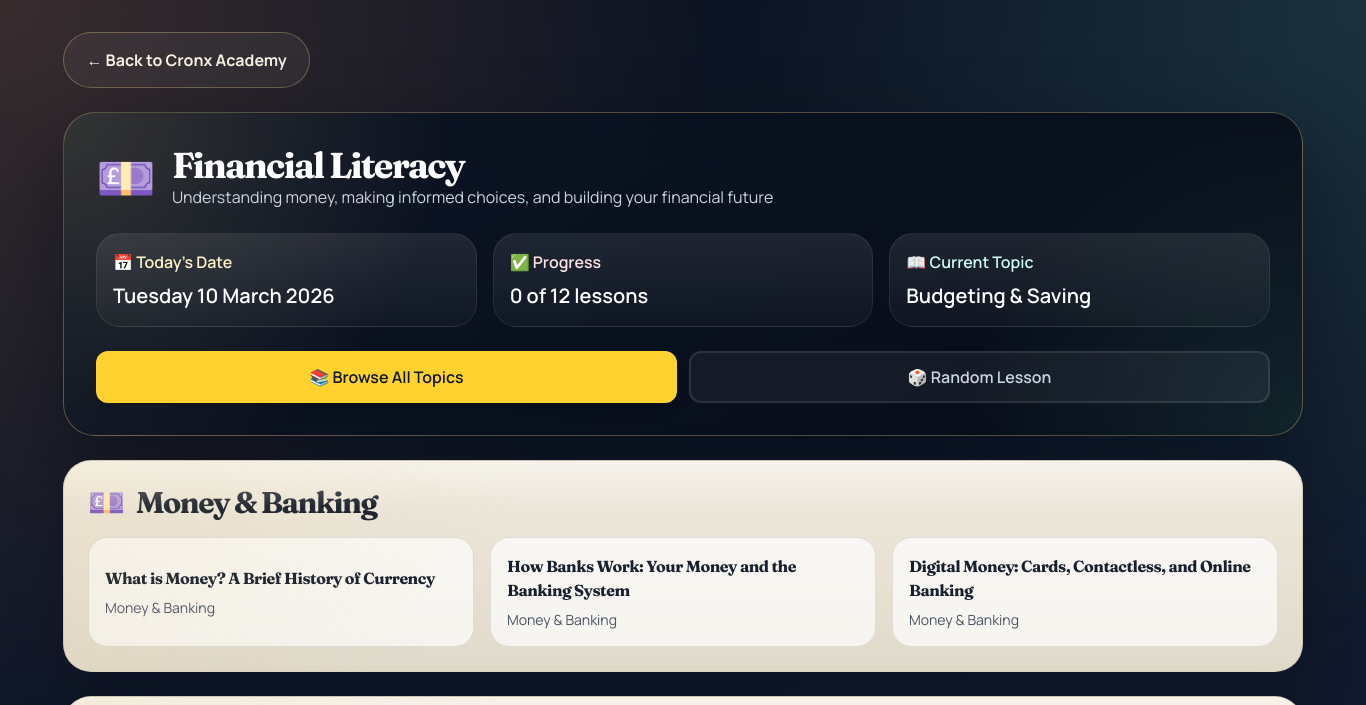
FinancialLiteracyInteractive › increments completed count when Mark Complete is clicked
Click the button "🎲 Random Lesson": {"x": 980, "y": 377} [689,351,1270,403]
(page scrolled)
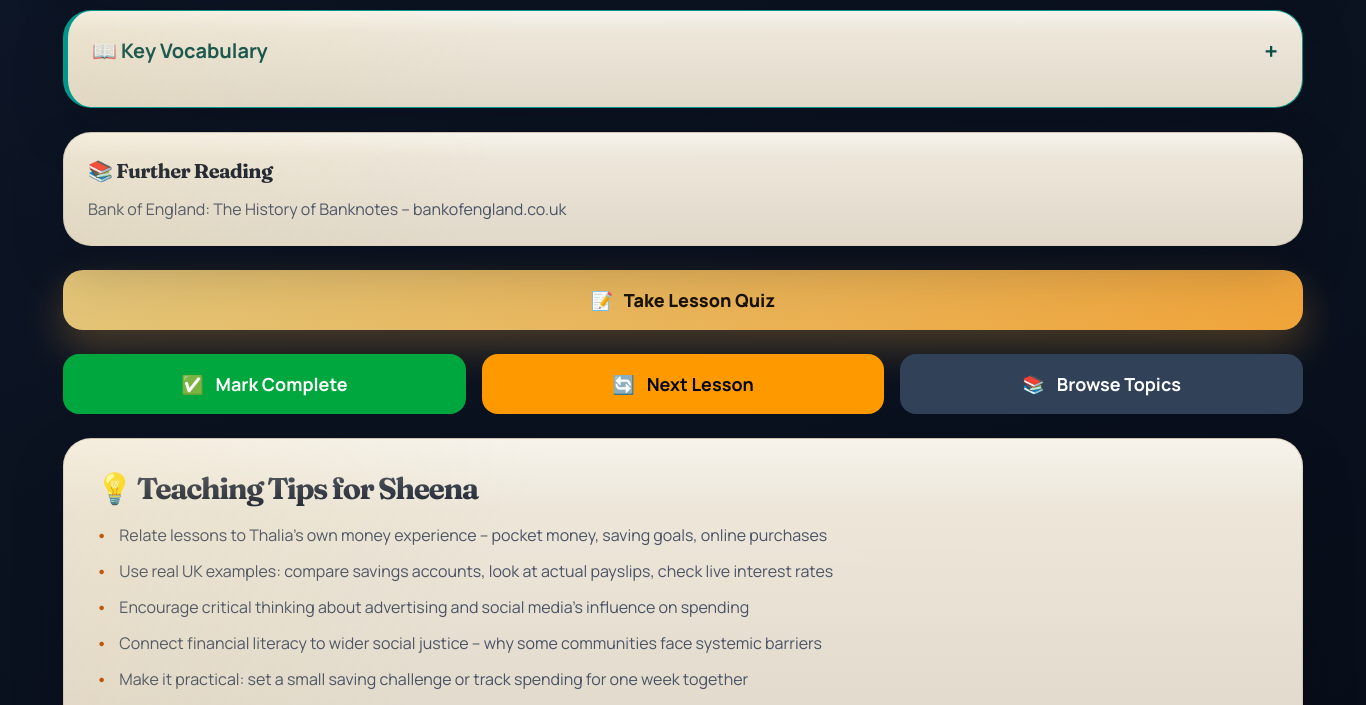
Click the text "Mark Complete": {"x": 282, "y": 384} [216,370,348,398]
(page scrolled)
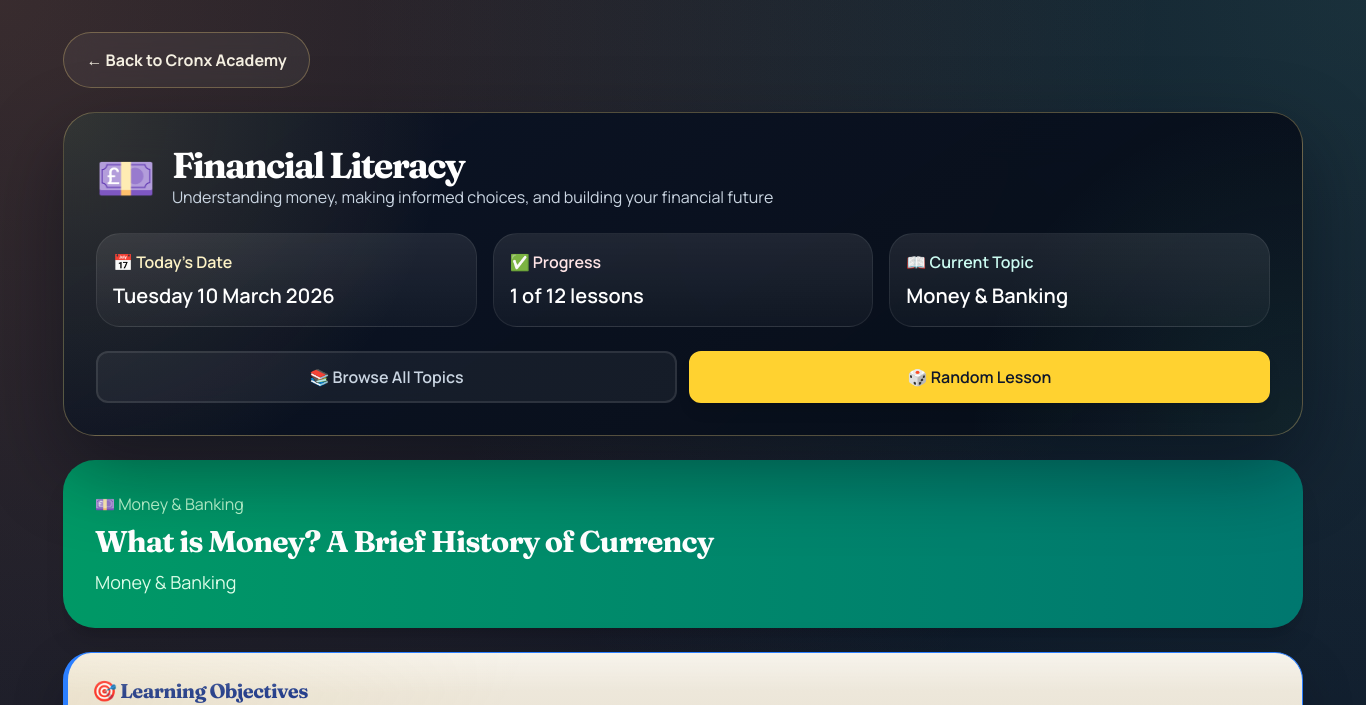
Result: the text "1 of 12 lessons" is shown at [510,282,644,309]
